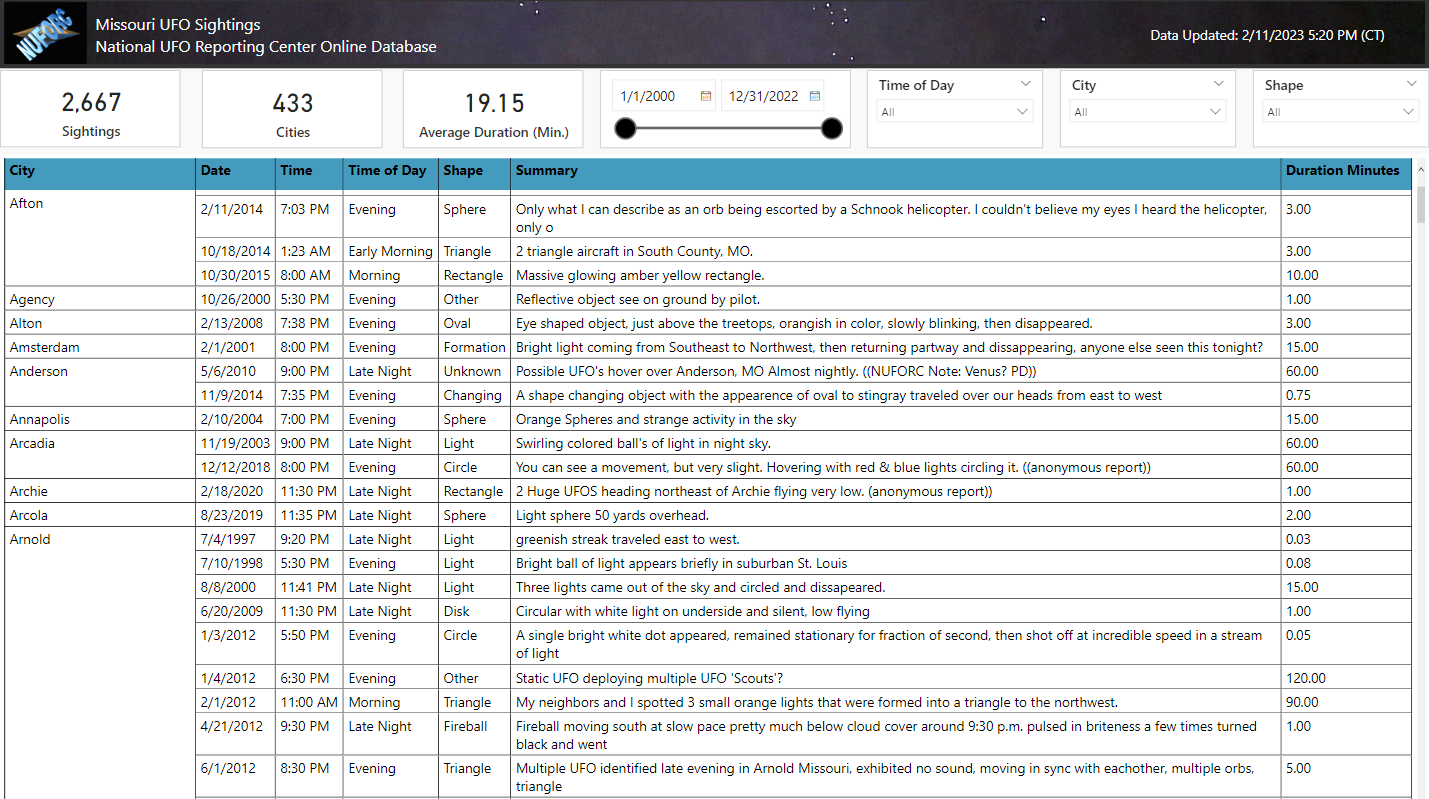

What the dashboard file says about the page in this screenshot:
{"tool":"powerbi","page":{"name":"Report Detail","canvas":[1664,936],"ordinal":1},"visuals":[{"type":"image","box":[0,0,1663.9,82.6],"z":0},{"type":"image","box":[0,0,105.6,83.2],"z":1000},{"type":"pivotTable","fields":{"Rows":["Data.City All","Data.Date","Data.Time","Data.Time of Day","Data.Shape","Data.Summary","Data.Duration minutes"]},"box":[0,182.5,1663.9,884.8],"z":2000},{"type":"textbox","box":[106,13.4,450.8,69.8],"z":3000},{"type":"textbox","box":[1333.7,27.9,330.2,47.7],"z":4000},{"type":"card","fields":{"Values":["-Measures.Sightings"]},"box":[0,84.8,210,90.2],"z":5000},{"type":"card","fields":{"Values":["-Measures.Cities"]},"box":[234.9,84.9,210,90.7],"z":6000},{"type":"card","fields":{"Values":["-Measures.Average Duration"]},"box":[469.7,84.9,210,90.7],"z":7000},{"type":"slicer","fields":{"Values":["Date.Date"]},"box":[698,84.9,291.8,90.7],"z":8000},{"type":"slicer","fields":{"Values":["Data.Time of Day"]},"box":[1009.6,84.9,205,90.7],"z":9000},{"type":"slicer","fields":{"Values":["Data.City All"]},"box":[1234.3,85,205,89.5],"z":10000},{"type":"slicer","fields":{"Values":["Data.Shape"]},"box":[1459,84.9,205,89.5],"z":11000}]}

Visuals, with their boxes in screenshot pixels (x1, y1, x2, y2), scaled from the page's 1664x936 canvas onto the 1429x799 screenshot:
image: bbox(0, 0, 1428, 71)
image: bbox(0, 0, 91, 71)
pivotTable - Data.City All x Data.Date: bbox(0, 156, 1428, 798)
textbox: bbox(91, 11, 478, 71)
textbox: bbox(1145, 24, 1428, 65)
card - -Measures.Sightings: bbox(0, 72, 180, 149)
card - -Measures.Cities: bbox(202, 72, 382, 150)
card - -Measures.Average Duration: bbox(403, 72, 584, 150)
slicer - Date.Date: bbox(599, 72, 850, 150)
slicer - Data.Time of Day: bbox(867, 72, 1043, 150)
slicer - Data.City All: bbox(1060, 73, 1236, 149)
slicer - Data.Shape: bbox(1253, 72, 1428, 149)
